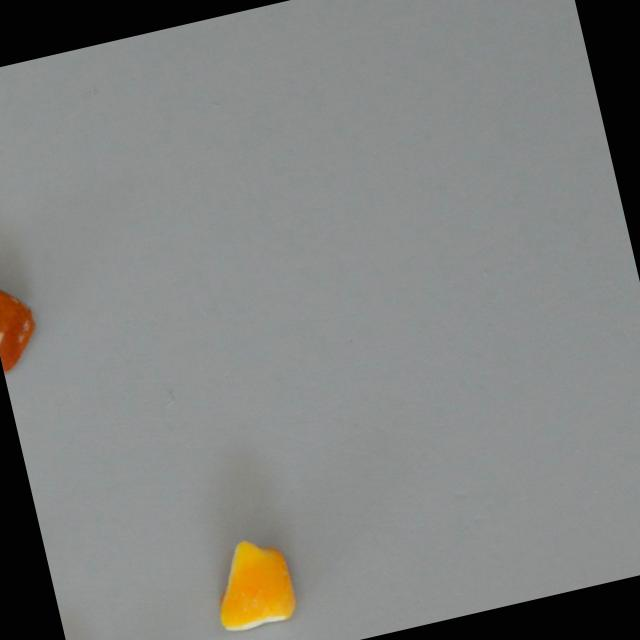dañado: (202, 529, 301, 635), (0, 262, 50, 372)
